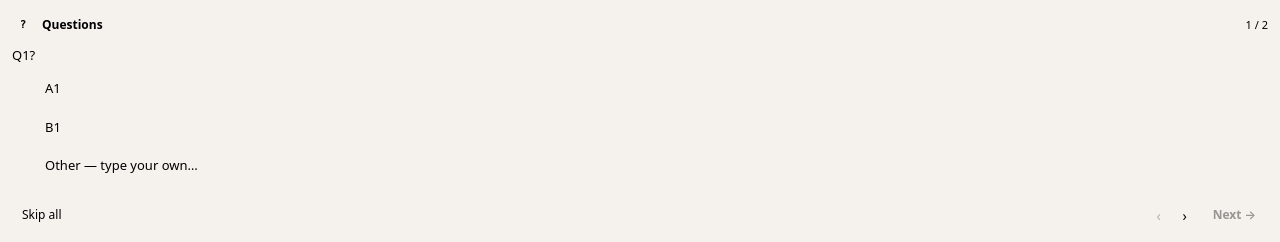
Scenario: UserInputBanner › navigates back and forth with the arrow buttons
The width and height of the screenshot is (1280, 242).
Expected: the button named "Previous question" is disabled, x1=1149 y1=205 x2=1169 y2=225
Click the button named "Next question".
click(1185, 215)  # box x1=1175 y1=205 x2=1195 y2=225
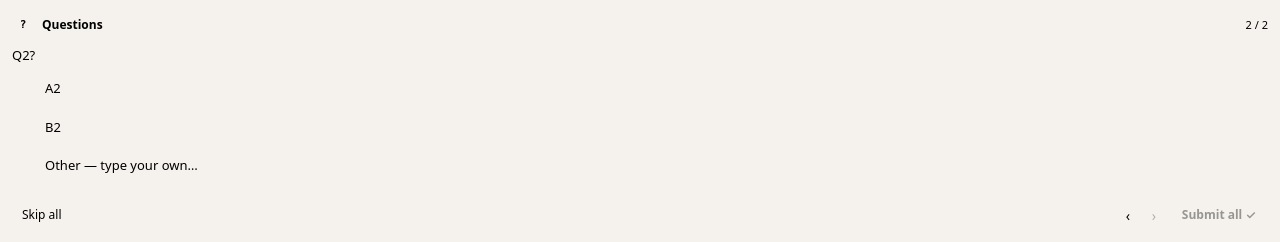
Now the text "2 / 2" is shown, box x1=1246 y1=17 x2=1268 y2=33
Now the button named "Next question" is disabled, box x1=1144 y1=205 x2=1164 y2=225
Click the button named "Previous question".
click(1128, 215)  # box x1=1118 y1=205 x2=1138 y2=225
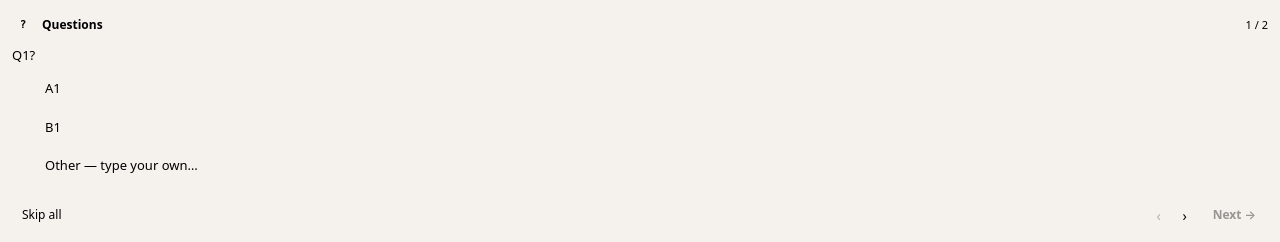
Now the text "1 / 2" is shown, box x1=1246 y1=17 x2=1268 y2=33
